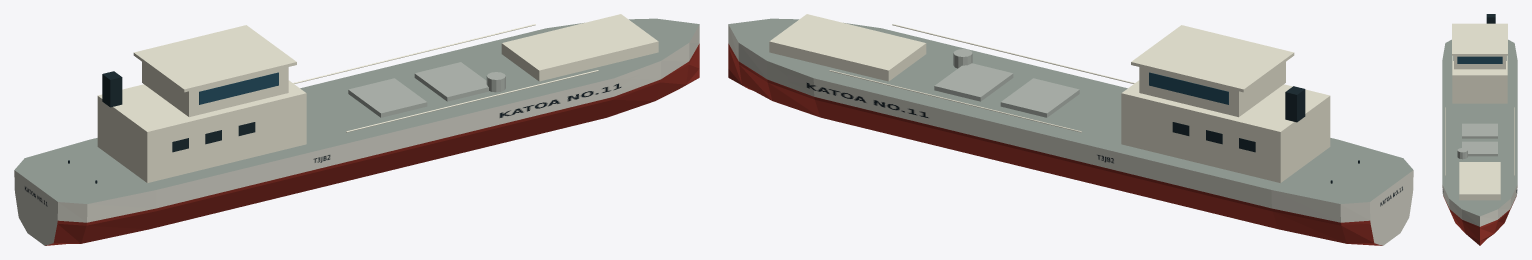
File: ship.dae
3 views of the same model, side by side, from view 1: azimuth 30°, elevation 25°; view 2: azimuth 150°, elevation 25°; view 3: azimuth 270°, elevation 25° (orthographic). The views are drawn at different scales.
Parts seen in each view (by area): view 1: Ship; view 2: Ship; view 3: Ship.
Boxes of the visible parts, x1,y1,x2,y2 form: Ship: (14,14,699,245); Ship: (728,14,1413,245); Ship: (1442,14,1517,245).
Size of the model in its own units: 50.52 by 9 by 10.09.
1 material, 1 textured.
